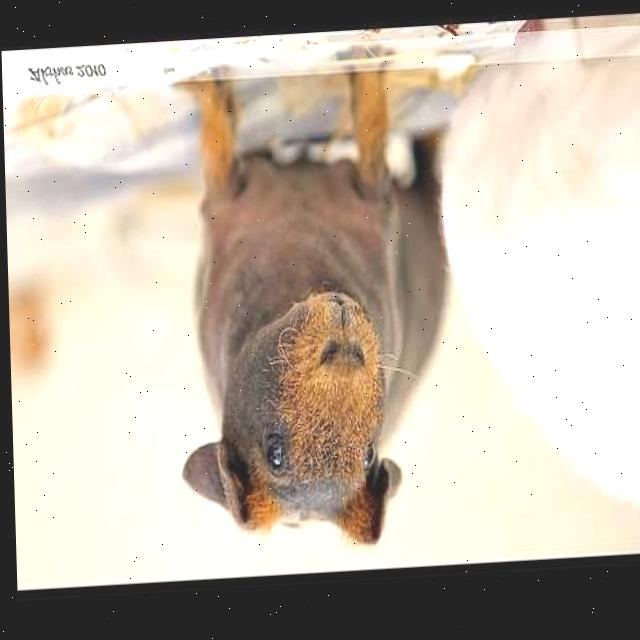guinea pig: (171, 64, 459, 560)
